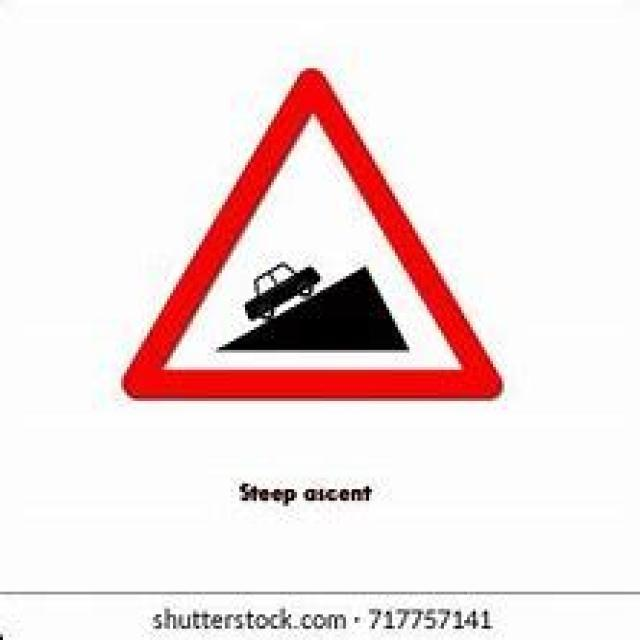steep ascent: (120, 67, 502, 400)
